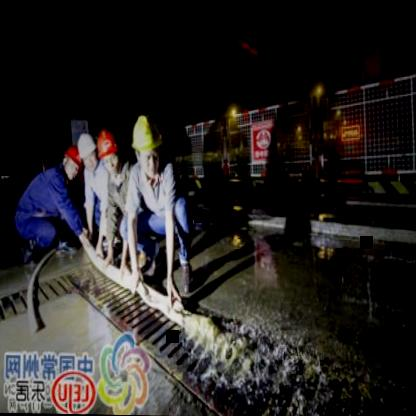helmet: (132, 110, 160, 184), (96, 128, 118, 172), (76, 130, 96, 173), (64, 140, 84, 180)
